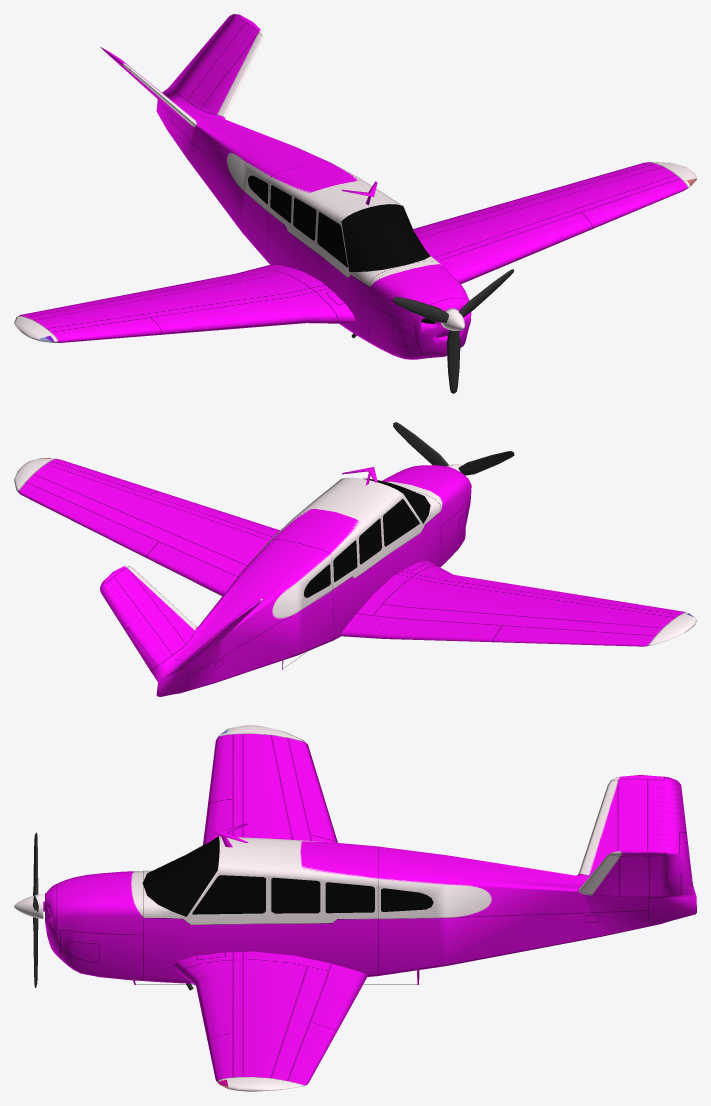
File: airplane8.obj
The picture shows the model from 3 angles, top to bottom: view 1: azimuth 30°, elevation 25°; view 2: azimuth 150°, elevation 25°; view 3: azimuth 270°, elevation 25°; orthographic projection. The views are drawn at different scales.
Parts seen in each view (by area): view 1: aircraft, window, propeller; view 2: aircraft, window, propeller; view 3: aircraft, window, propeller.
Boxes of the visible parts, box(x1,y1,x2,y2) form: aircraft: box(14, 14, 696, 359); window: box(248, 175, 430, 271); propeller: box(393, 269, 513, 393); aircraft: box(14, 458, 696, 696); window: box(303, 478, 430, 597); propeller: box(393, 422, 514, 475); aircraft: box(43, 725, 696, 1091); window: box(142, 836, 433, 916); propeller: box(14, 832, 43, 987).
Size of the model in its own units: 11.72 by 2.63 by 9.29.
Materials: 5 (1 with a texture image).
